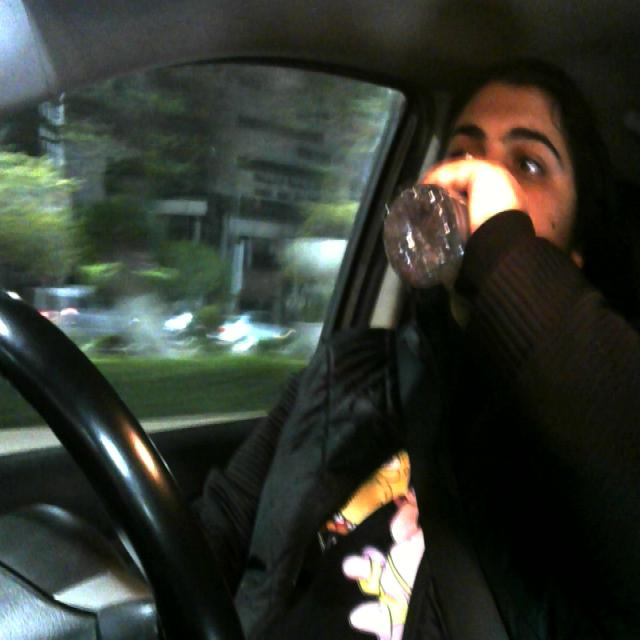drinking: (360, 173, 490, 300)
